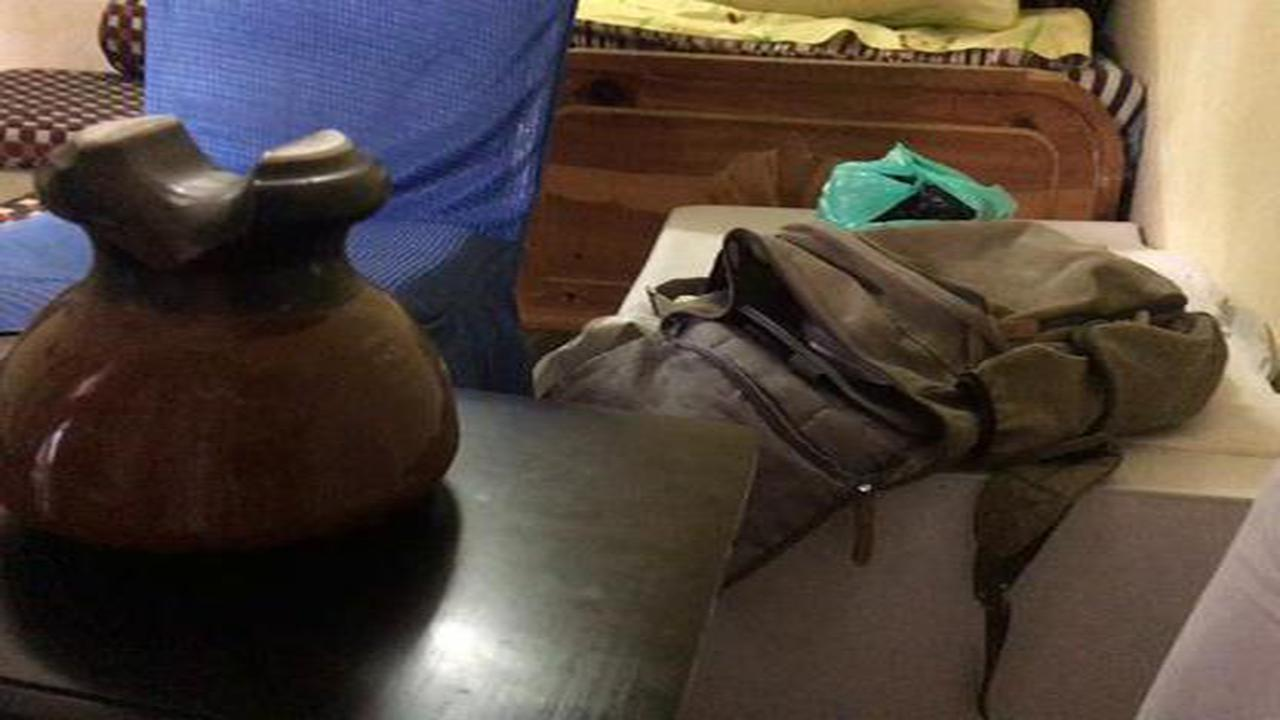insulator_pin: (13, 106, 477, 579)
